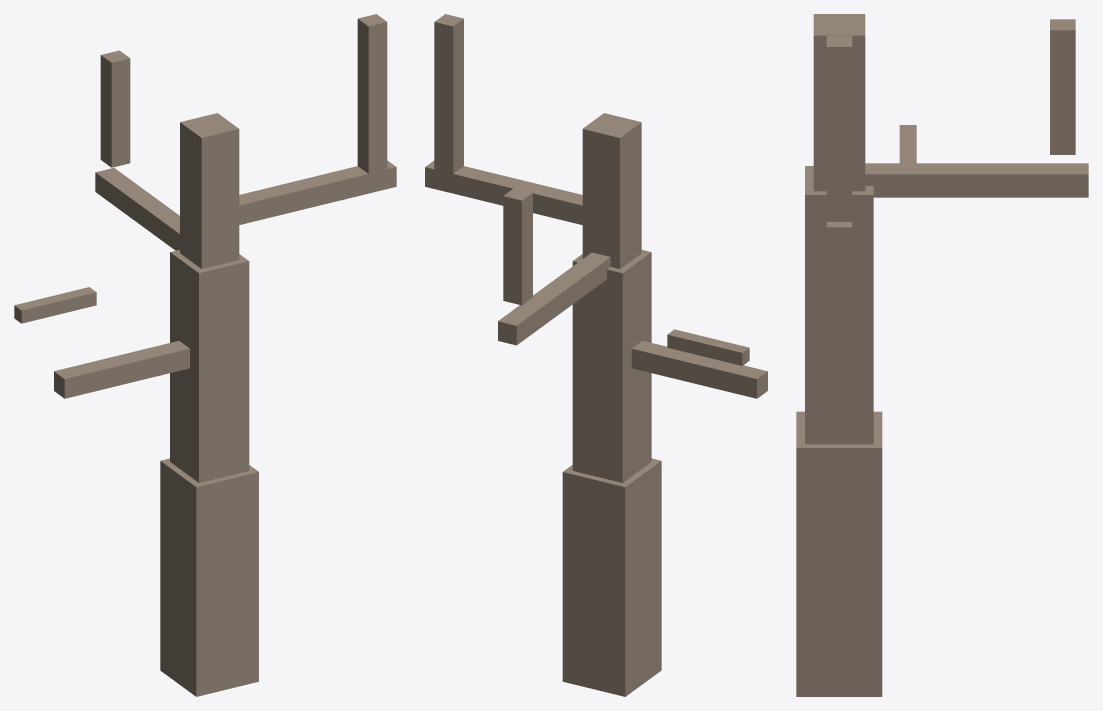
Rendered from deadtree.glb.
3 renders of one model, left to right at view 1: azimuth 30°, elevation 25°; view 2: azimuth 150°, elevation 25°; view 3: azimuth 270°, elevation 25°, orthographic. The views are drawn at different scales.
Visible parts, largest first — view 1: Prop_DeadTree; view 2: Prop_DeadTree; view 3: Prop_DeadTree.
Part boxes in pixels (x1,y1,x2,y2): Prop_DeadTree: (14, 14, 396, 696); Prop_DeadTree: (425, 14, 767, 696); Prop_DeadTree: (796, 14, 1088, 696).
Bounding box in the file's own units: 2.75 × 4.7 × 1.7.
